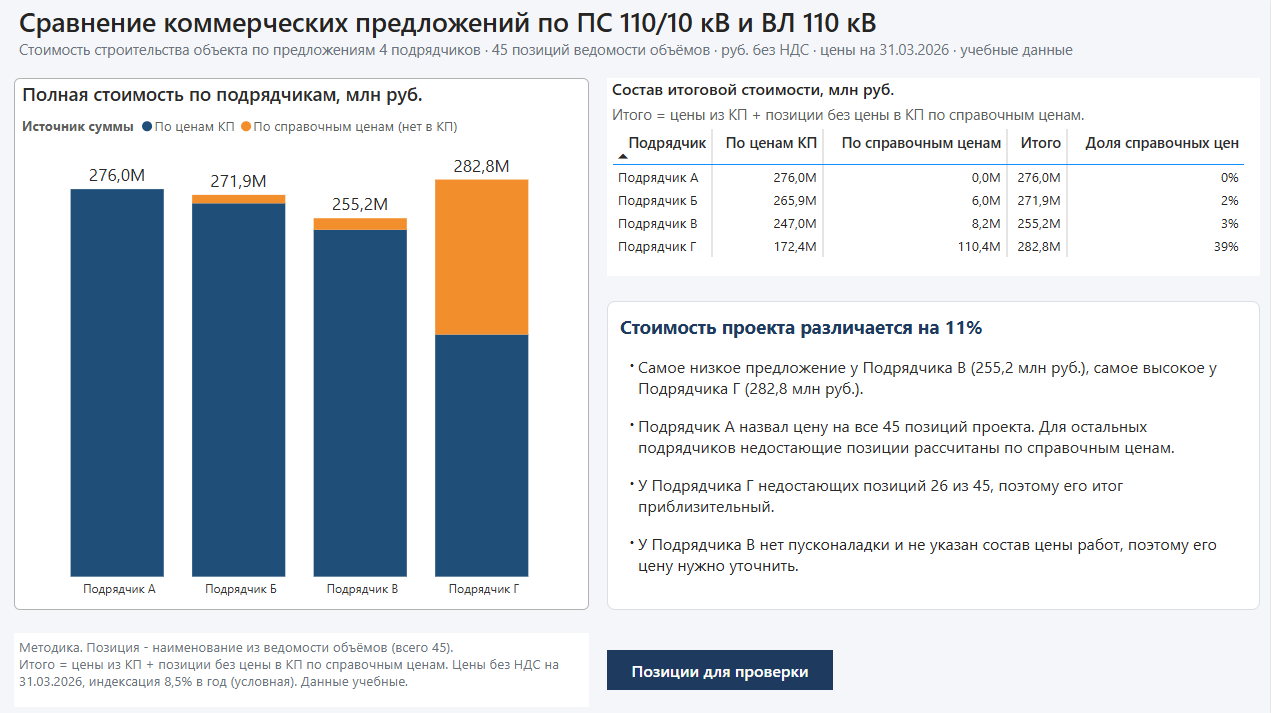

This screenshot's page, from the dashboard's own definition file:
{"tool":"powerbi","page":{"name":"Сравнение КП","canvas":[1280,720],"ordinal":0},"visuals":[{"type":"textbox","box":[24,0,1256,72],"z":0},{"type":"columnChart","title":"Полная стоимость по подрядчикам, млн руб.","fields":{"Category":["tVOR.Подрядчик"],"Y":["Sum(tVOR.Сумма_итог_руб)"],"Series":["tVOR.Источник суммы"]},"box":[24.4,80.3,574.6,531.9],"z":1000},{"type":"tableEx","title":"Состав итоговой стоимости, млн руб.","fields":{"Values":["tVOR.Подрядчик","tVOR.По_КП_руб","tVOR.По_справочнику_руб","Sum(tVOR.Сумма_итог_руб)","tVOR.Доля_справочных"]},"box":[617,80,653,198],"z":2000},{"type":"textbox","box":[24.4,634.6,574.6,74.2],"z":3000},{"type":"textbox","box":[617.3,303.1,652.9,309.2],"z":4000},{"type":"actionButton","box":[617.3,651.9,225.8,39.7],"z":5000}]}

Visuals, with their boxes in screenshot pixels (x1, y1, x2, y2), scaled from the page's 1280x720 canvas onto the 1271x713 screenshot:
textbox: (24, 0, 1270, 71)
"Полная стоимость по подрядчикам, млн руб." columnChart: (24, 80, 595, 606)
"Состав итоговой стоимости, млн руб." tableEx: (613, 79, 1261, 275)
textbox: (24, 628, 595, 702)
textbox: (613, 300, 1261, 606)
actionButton: (613, 646, 837, 685)
